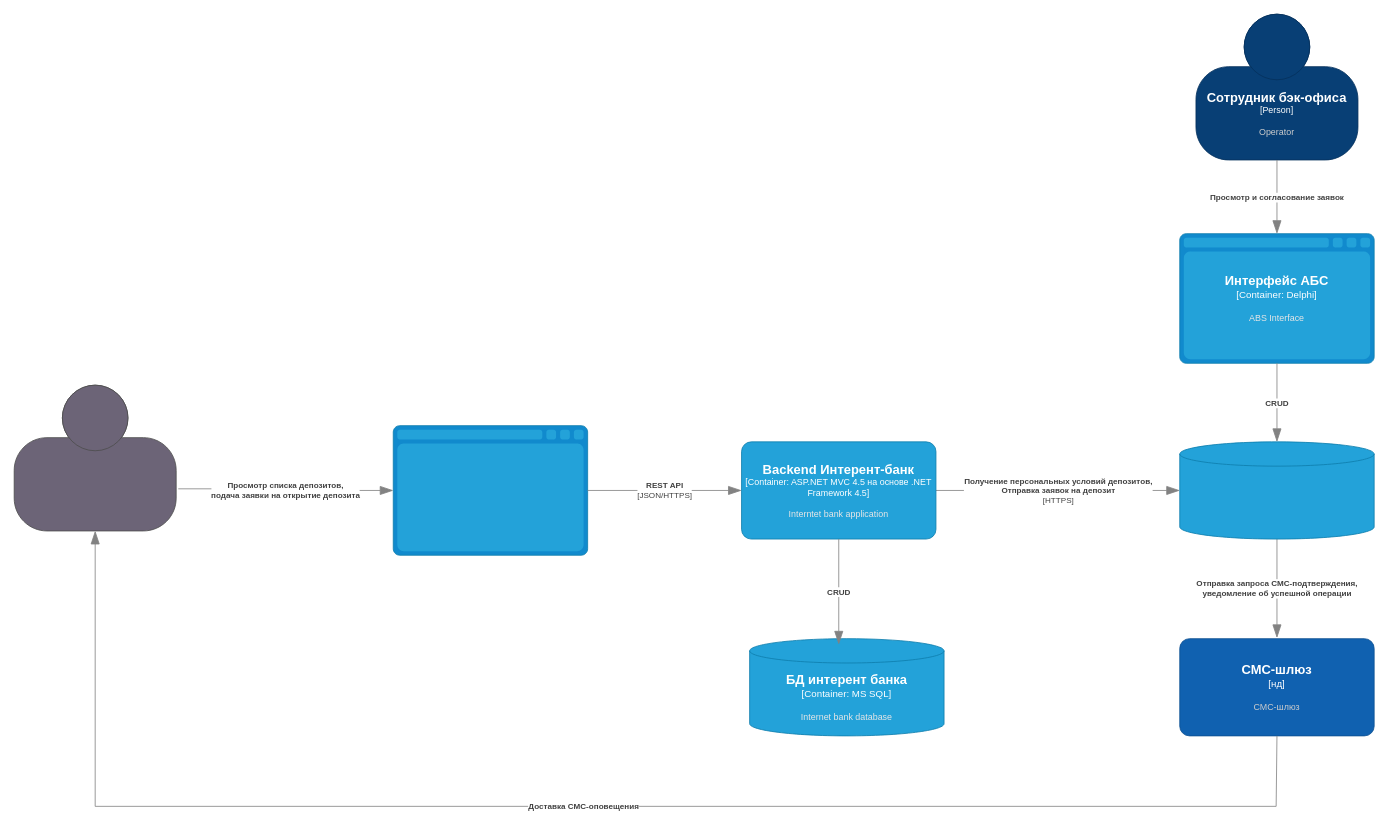
Some shapes in this 1388 by 833 pixel diagram are drawn without their labels. The shapes that lost their labels are listed below. From the top down, each one's centre as x and y in pixels, then its label:
At pixel 94 457: "Клиент [Person] Visitor".
At pixel 490 490: "интерфейc банка [Container: PHP, React.js] Bank WEB interface".
At pixel 1276 490: "БД АБС [Container: Oracle] ABS Database".
